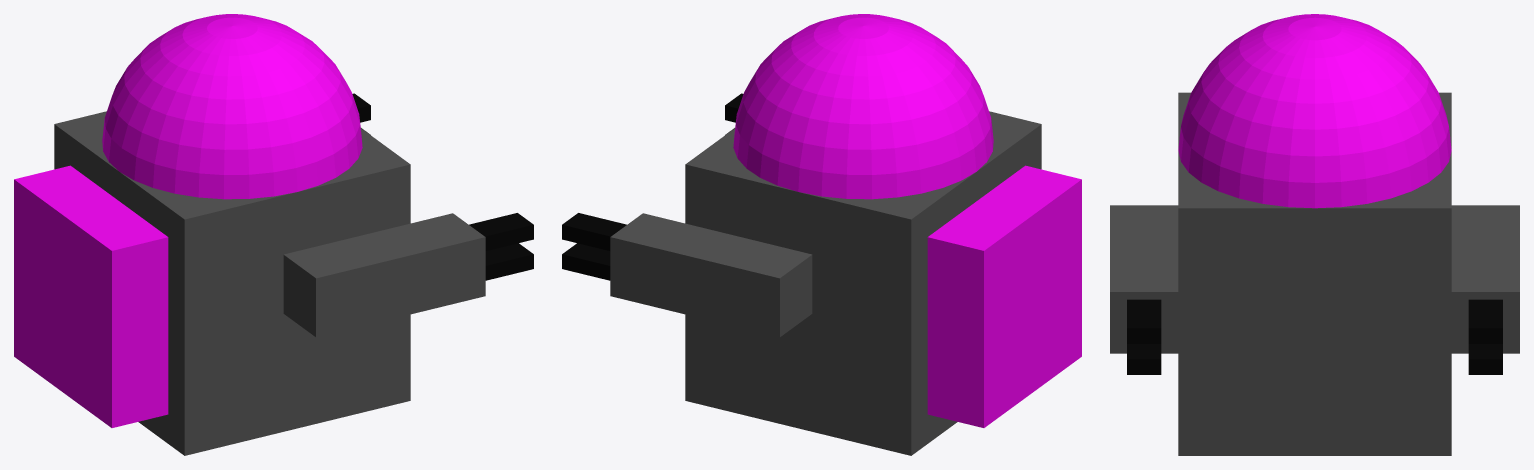
The model's file is vanguardMUV.glb.
3 views of the same model, side by side, from view 1: azimuth 30°, elevation 25°; view 2: azimuth 150°, elevation 25°; view 3: azimuth 270°, elevation 25° (orthographic). The views are drawn at different scales.
Visible parts, largest first — view 1: Cube.008, Sphere, Cube.001, Cube.004, Cube.005, Cube.002; view 2: Cube.008, Sphere, Cube.001, Cube.003, Cube.006, Cube.007; view 3: Cube.008, Sphere, Cube.003, Cube.004, Cube.005, Cube.006, Cube.002, Cube.007.
Boxes of the visible parts, x1,y1,x2,y2 form: Cube.008: [54, 111, 410, 455]; Sphere: [102, 14, 362, 199]; Cube.001: [14, 165, 168, 427]; Cube.004: [283, 213, 485, 337]; Cube.005: [469, 213, 533, 250]; Cube.002: [485, 243, 533, 280]; Cube.008: [685, 111, 1041, 455]; Sphere: [733, 14, 993, 199]; Cube.001: [927, 165, 1081, 427]; Cube.003: [610, 213, 812, 337]; Cube.006: [562, 213, 626, 250]; Cube.007: [562, 243, 610, 280]; Cube.008: [1178, 92, 1451, 455]; Sphere: [1178, 14, 1451, 208]; Cube.003: [1451, 205, 1519, 353]; Cube.004: [1110, 205, 1178, 353]; Cube.005: [1127, 299, 1161, 343]; Cube.006: [1468, 299, 1502, 343]; Cube.002: [1127, 344, 1161, 374]; Cube.007: [1468, 344, 1502, 374].
Bounding box in the file's own units: 6.75 × 6 × 6.
